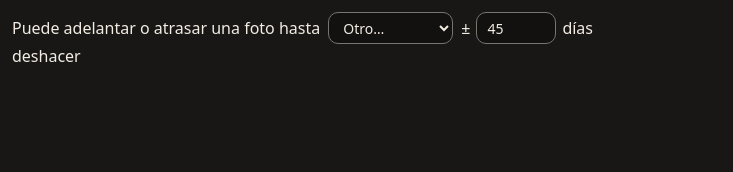
Test: FlexMargin › ignores decimals, and goes back to what is saved on leaving
Step 1. Replace the text in the number field named "Margen en días" with "2.5" → (516, 28), box [476, 12, 556, 44]
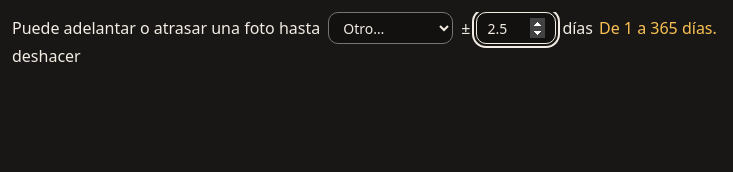
Step 2. Leave the number field named "Margen en días", box [476, 12, 556, 44]
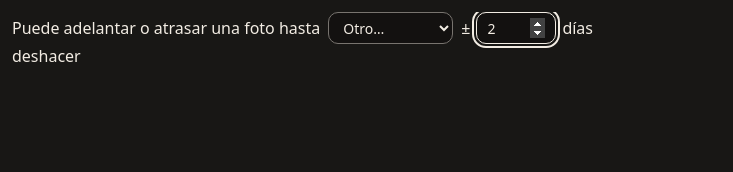
Expected: the number field named "Margen en días" holds "2", [476, 12, 556, 44]
